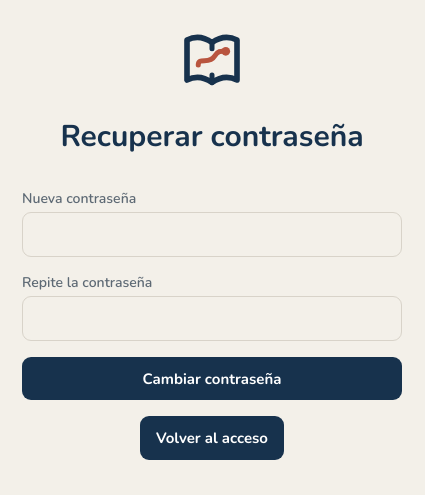
does not submit mismatched passwords
Type "Password-123" into the password field labelled "Nueva contraseña" at (212, 235), box [22,212,402,257]
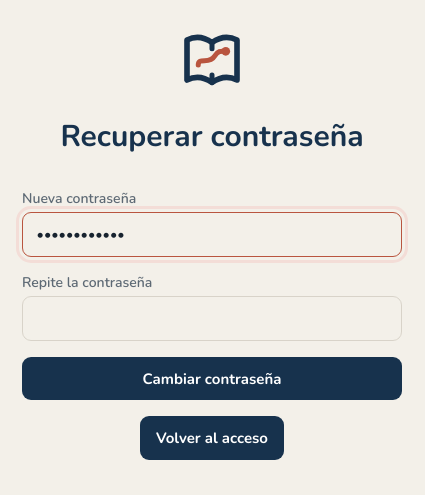
Type "Different-456" into the password field labelled "Repite la contraseña" at (212, 319), box [22,296,402,341]
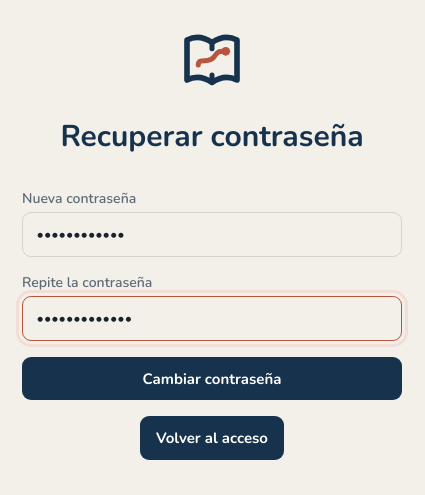
Click the button "Cambiar contraseña" at (212, 378), box [22,357,402,400]
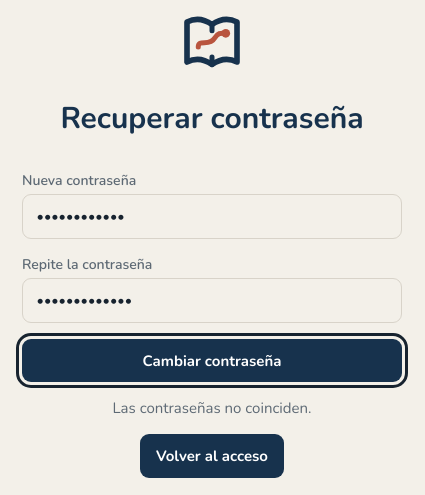
Expected: the message shows "no coinciden", [112,398,312,418]
